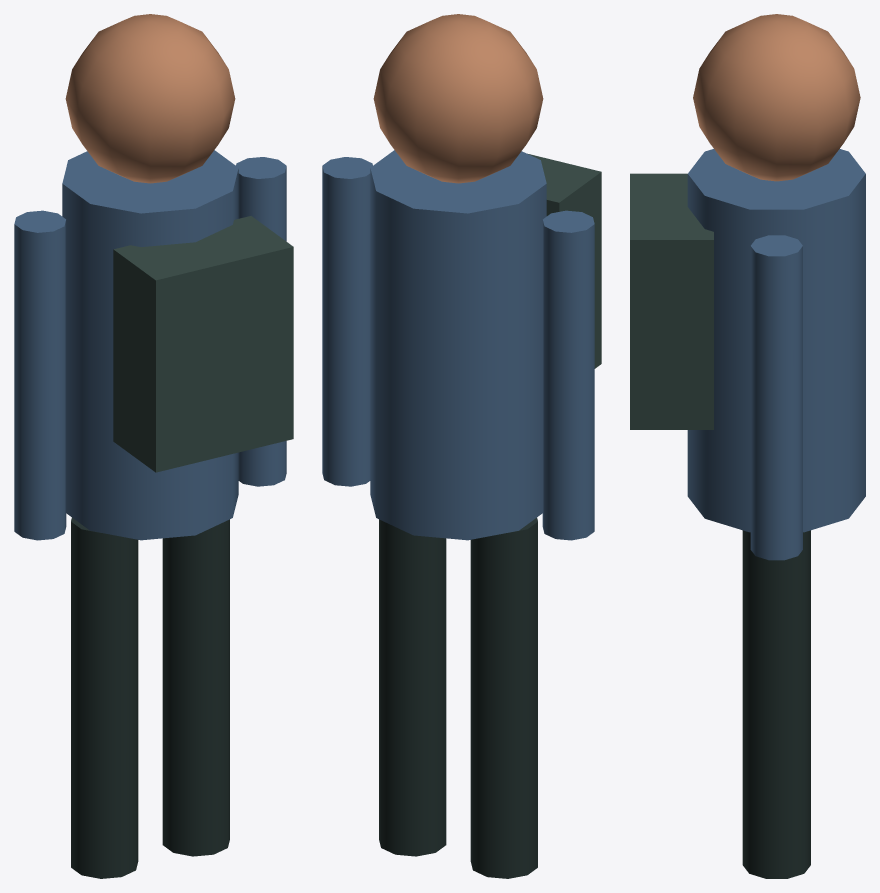
File: pedestrian-student.glb
3 renders of one model, left to right at view 1: azimuth 30°, elevation 25°; view 2: azimuth 150°, elevation 25°; view 3: azimuth 270°, elevation 25°, orthographic.
Parts seen in each view (by area): view 1: pedestrian-student; view 2: pedestrian-student; view 3: pedestrian-student.
Boxes of the visible parts, x1,y1,x2,y2 form: pedestrian-student: [14, 14, 293, 878]; pedestrian-student: [322, 14, 601, 878]; pedestrian-student: [630, 14, 865, 878].
Bounding box in the file's own units: 0.5751 × 1.73 × 0.45.
